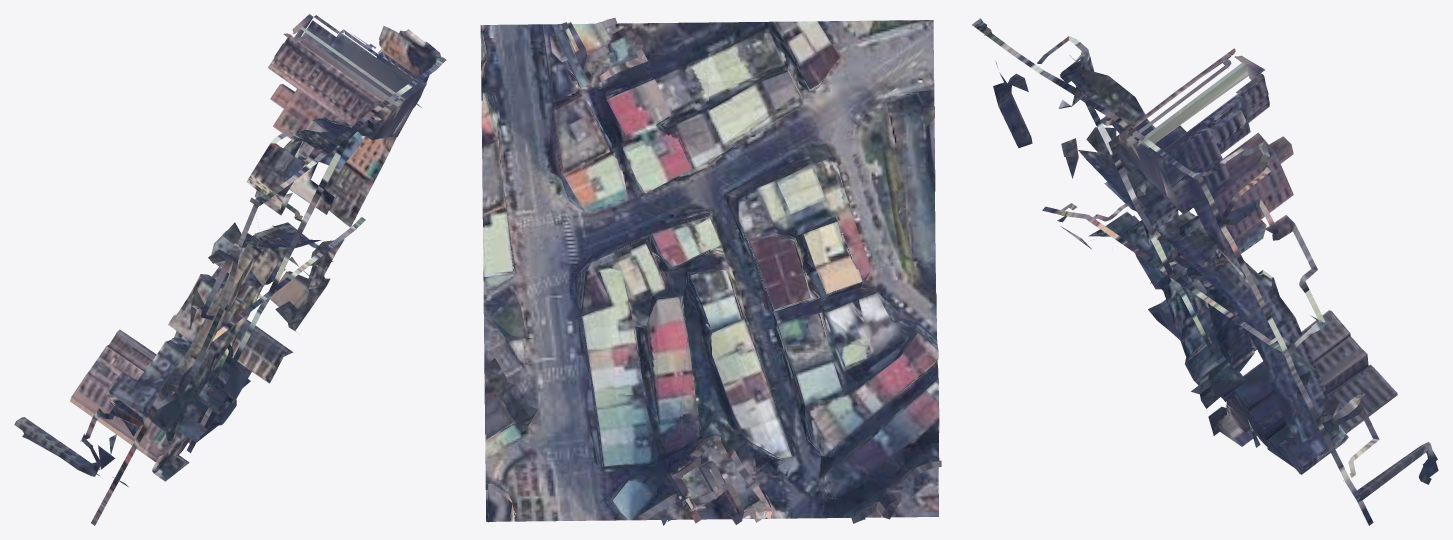
3 views of the same model, side by side, from view 1: azimuth 30°, elevation 25°; view 2: azimuth 150°, elevation 25°; view 3: azimuth 270°, elevation 25° (orthographic). The views are drawn at different scales.
Bounding box in the file's own units: 169 × 160 × 150.
2 materials, 2 textured.
